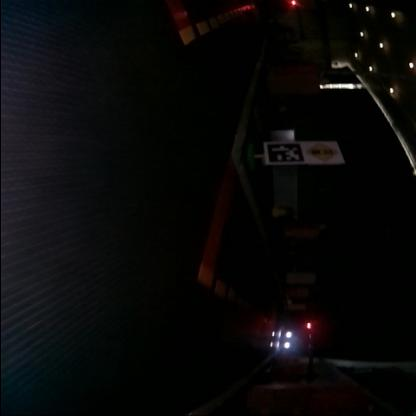Duckie: (272, 207, 285, 216)
QR code: (266, 141, 303, 162)
Signal sign: (306, 141, 338, 162)
